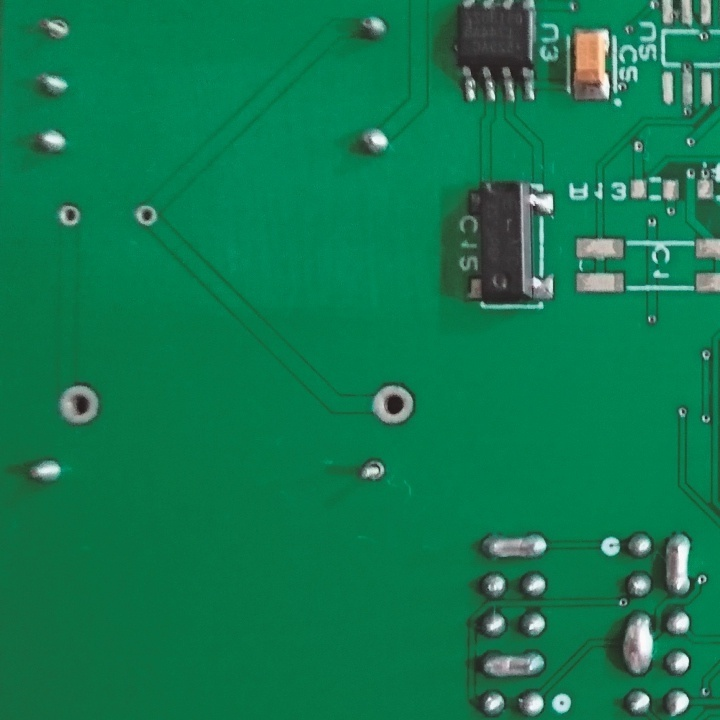F: (369, 381, 418, 430), (56, 383, 101, 426), (356, 453, 387, 483), (40, 15, 73, 43), (133, 203, 159, 229), (56, 201, 80, 228)
P: (475, 527, 550, 564), (476, 645, 549, 680), (619, 609, 653, 677), (664, 527, 693, 597)
